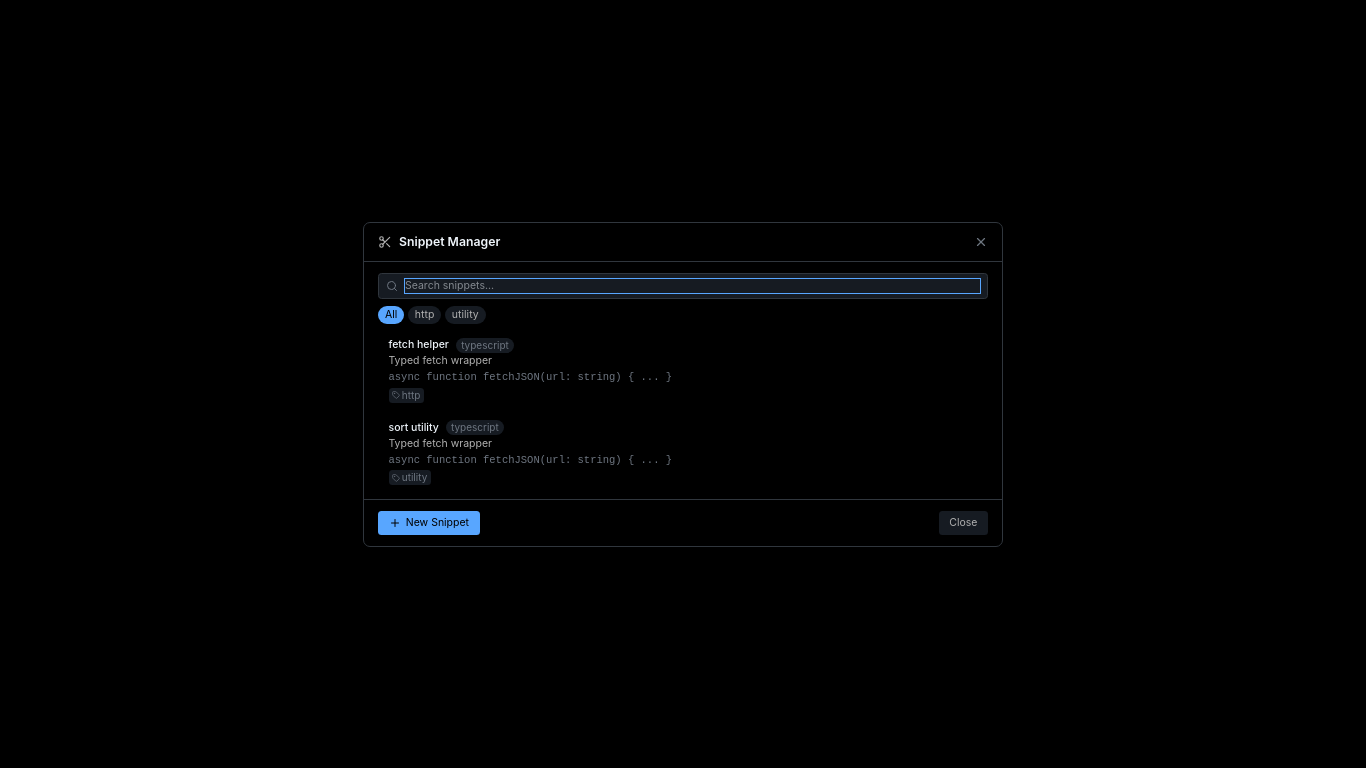
Test: SnippetManagerDialog › filters snippets by tag when tag pill is clicked
This screenshot has width=1366, height=768.
Expected: the text "fetch helper" is shown, [388,338,449,352]
// The first "utility" button in the filter area
Click the button "utility".
click(465, 315)  # box [445,306,486,324]
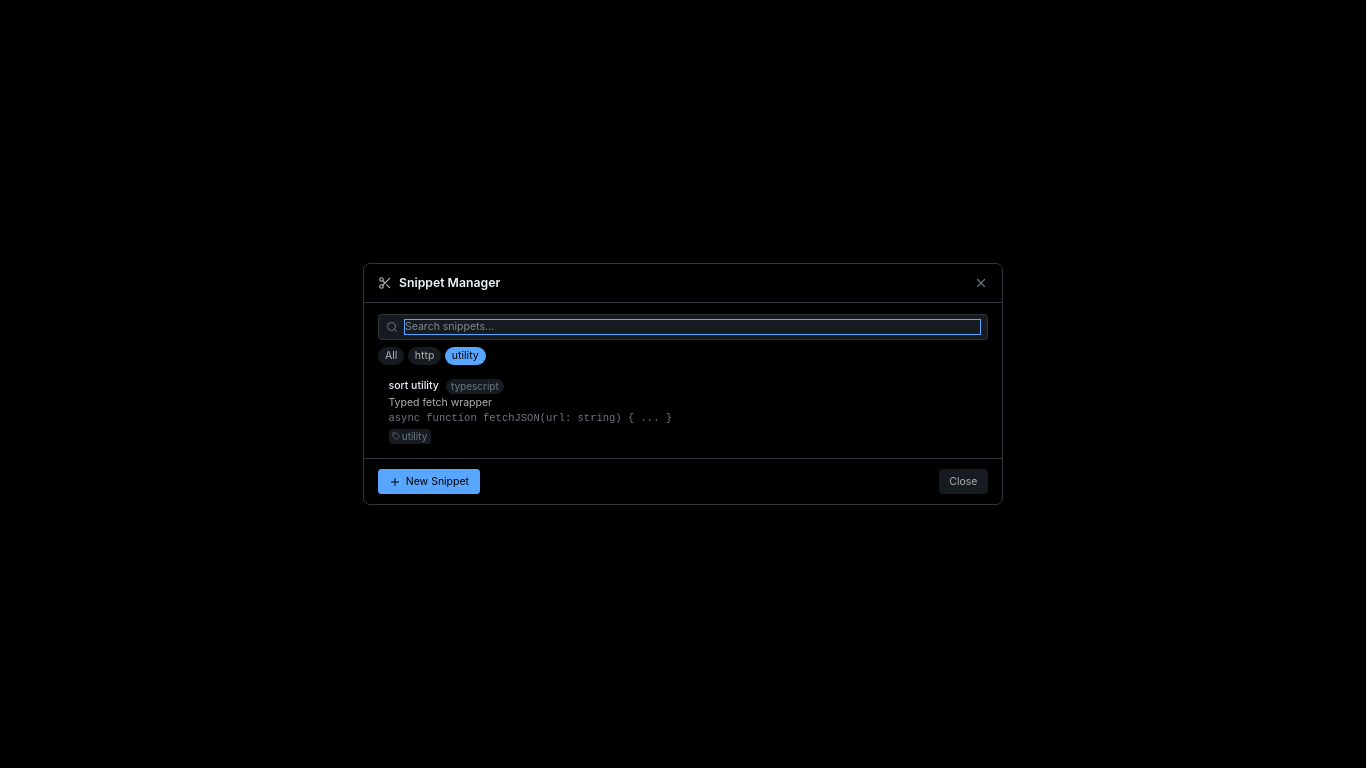
Expected: the text "sort utility" is shown, [388,379,439,393]
Now the button "fetch helper" is gone
